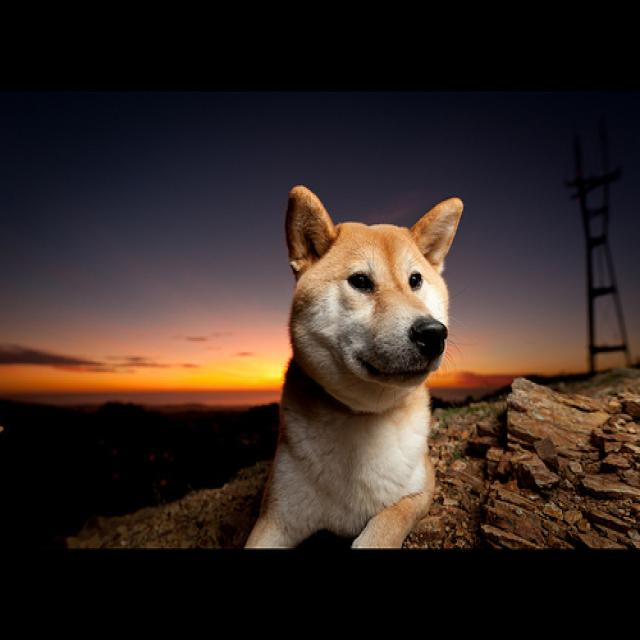dog-shiba_inu: (232, 173, 467, 564)
